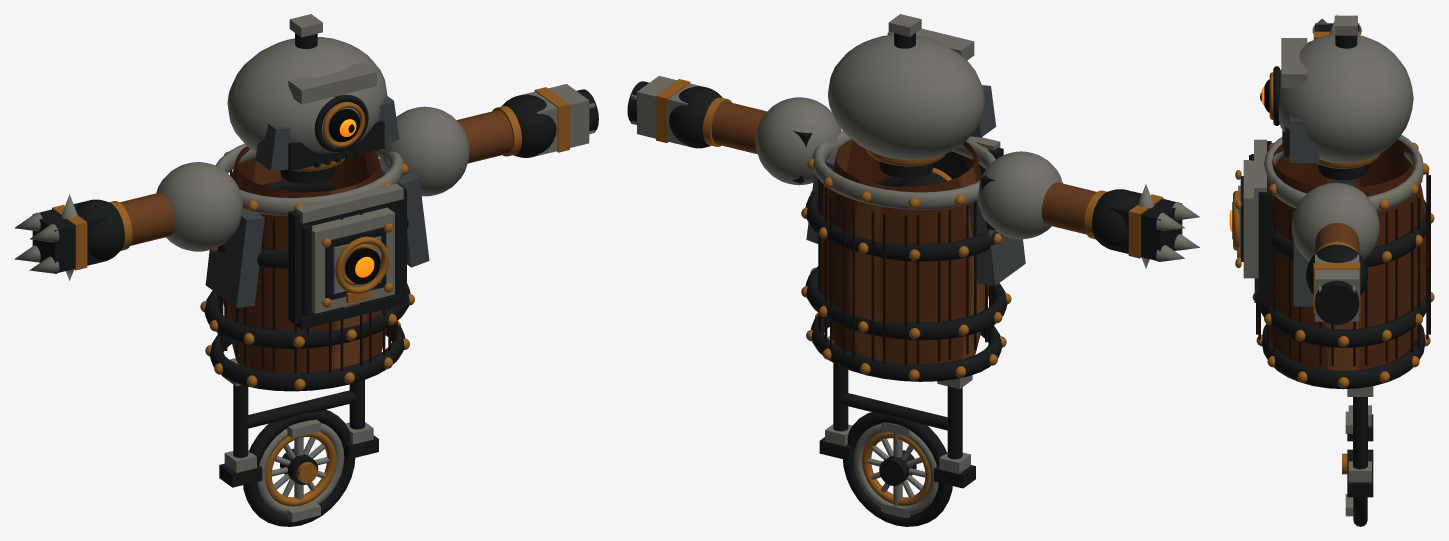
File: ClockworkGolem.dae
3 views of the same model, side by side, from view 1: azimuth 30°, elevation 25°; view 2: azimuth 150°, elevation 25°; view 3: azimuth 270°, elevation 25° (orthographic). The views are drawn at different scales.
Parts seen in each view (by area): view 1: HelmetShell, ShoulderBoss_-1, ShoulderBoss_1, ArmShaft (×2), WeaponSocket (×2), SideChestArmor_-1, IronHoop_1, ChestDoorPlate, IronHoop_2, ChestMountPlate, MainWheelTire, WoodStave_15 (+28 smaller); view 2: HelmetShell, ShoulderBoss_-1, ShoulderBoss_1, ArmShaft (×2), WeaponSocket (×2), WoodStave_10, IronHoop_4, WoodStave_11, IronHoop_1, IronHoop_2, WoodStave_09, IronHoop_3 (+19 smaller); view 3: HelmetShell, ShoulderBoss_1, IronHoop_1, IronHoop_2, WoodStave_06, WoodStave_07, WoodStave_03, IronHoop_4, ChestDoorPlate, HammerFaceOuter, ChestMountPlate, WoodGrain_0 (×4) (+30 smaller).
Part boxes in pixels (x1,y1,x2,y2): HelmetShell: [227, 37, 387, 153]; ShoulderBoss_-1: [156, 162, 242, 251]; ShoulderBoss_1: [381, 106, 469, 196]; ArmShaft (×2): [120, 110, 513, 245]; WeaponSocket (×2): [75, 94, 556, 260]; SideChestArmor_-1: [205, 210, 264, 307]; IronHoop_1: [210, 324, 404, 391]; ChestDoorPlate: [311, 207, 394, 313]; IronHoop_2: [204, 283, 410, 348]; ChestMountPlate: [288, 184, 406, 324]; MainWheelTire: [243, 409, 355, 526]; WoodStave_15: [267, 189, 303, 373]; HelmetShell: [828, 34, 984, 160]; ShoulderBoss_-1: [978, 151, 1062, 239]; ShoulderBoss_1: [755, 97, 841, 185]; ArmShaft (×2): [711, 101, 1096, 234]; WeaponSocket (×2): [669, 86, 1140, 248]; WoodStave_10: [877, 185, 913, 363]; IronHoop_4: [812, 131, 995, 209]; WoodStave_11: [910, 184, 945, 363]; IronHoop_1: [810, 315, 1001, 381]; IronHoop_2: [805, 266, 1007, 340]; WoodStave_09: [848, 179, 884, 360]; IronHoop_3: [805, 176, 1002, 261]; HelmetShell: [1278, 34, 1413, 163]; ShoulderBoss_1: [1291, 182, 1379, 261]; IronHoop_1: [1262, 324, 1425, 389]; IronHoop_2: [1259, 297, 1428, 347]; WoodStave_06: [1356, 183, 1392, 370]; WoodStave_07: [1382, 175, 1416, 364]; WoodStave_03: [1271, 175, 1304, 364]; IronHoop_4: [1264, 134, 1423, 212]; ChestDoorPlate: [1243, 160, 1258, 278]; HammerFaceOuter: [1315, 280, 1359, 324]; ChestMountPlate: [1258, 141, 1271, 300]; WoodGrain_0 (×4): [1273, 184, 1430, 358].
Bounding box in the file's own units: 4.95 × 4.26 × 1.58.
